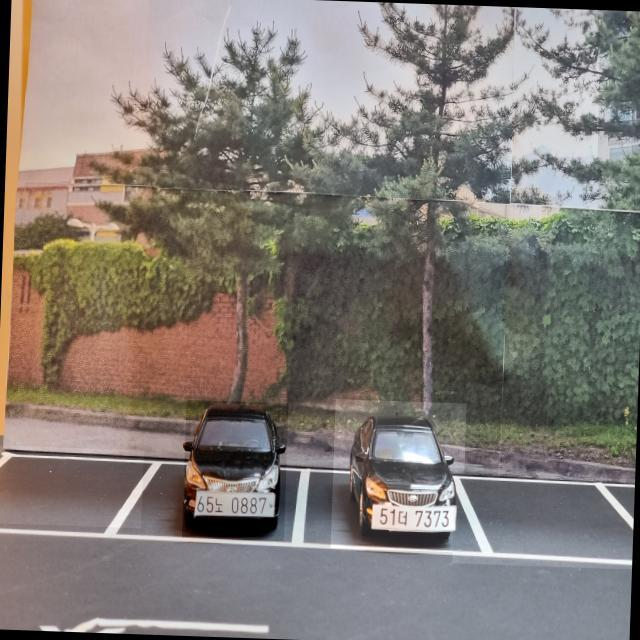empty: (452, 473, 634, 569), (0, 445, 143, 528)
occupied: (330, 398, 466, 552), (181, 400, 288, 540)
